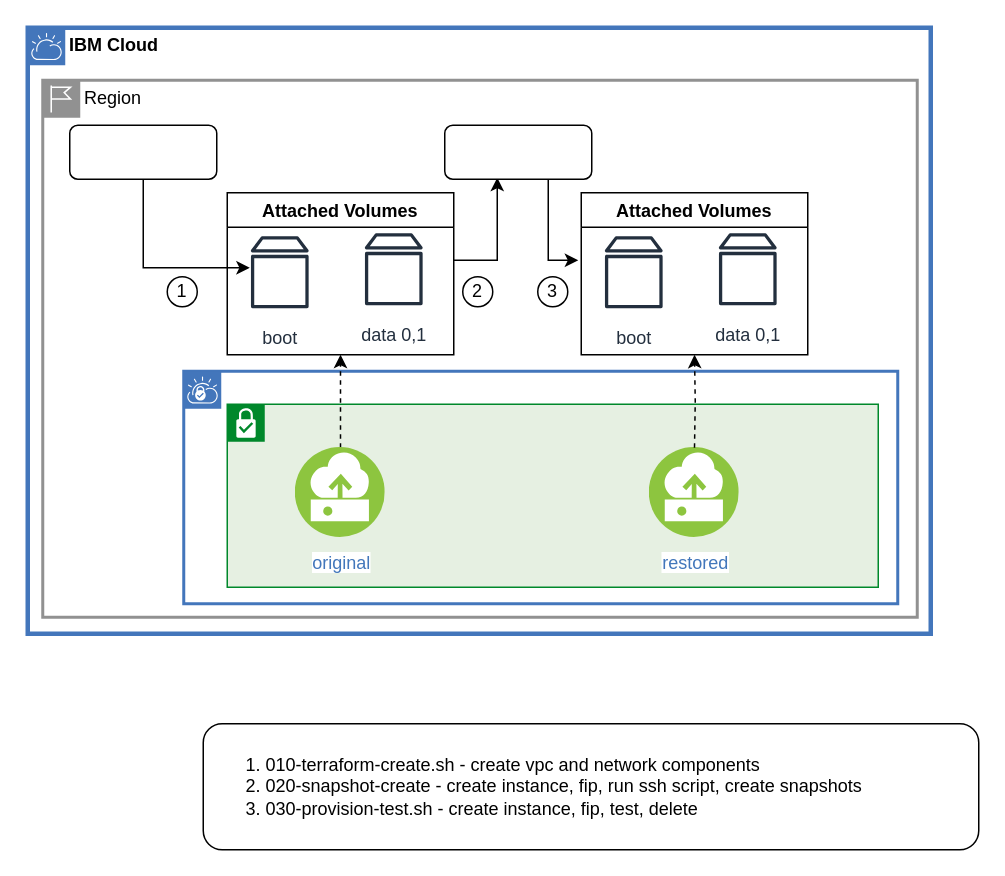
Image size: 1005x876. Some labels were removed from this diagram. Here are the shapes that lost their labels. From the top down, the box of each, then its label:
(68, 124, 217, 179): IBM Images
(443, 124, 592, 179): Snapshots
(182, 369, 898, 604): VPC
(226, 403, 878, 587): Subnet
